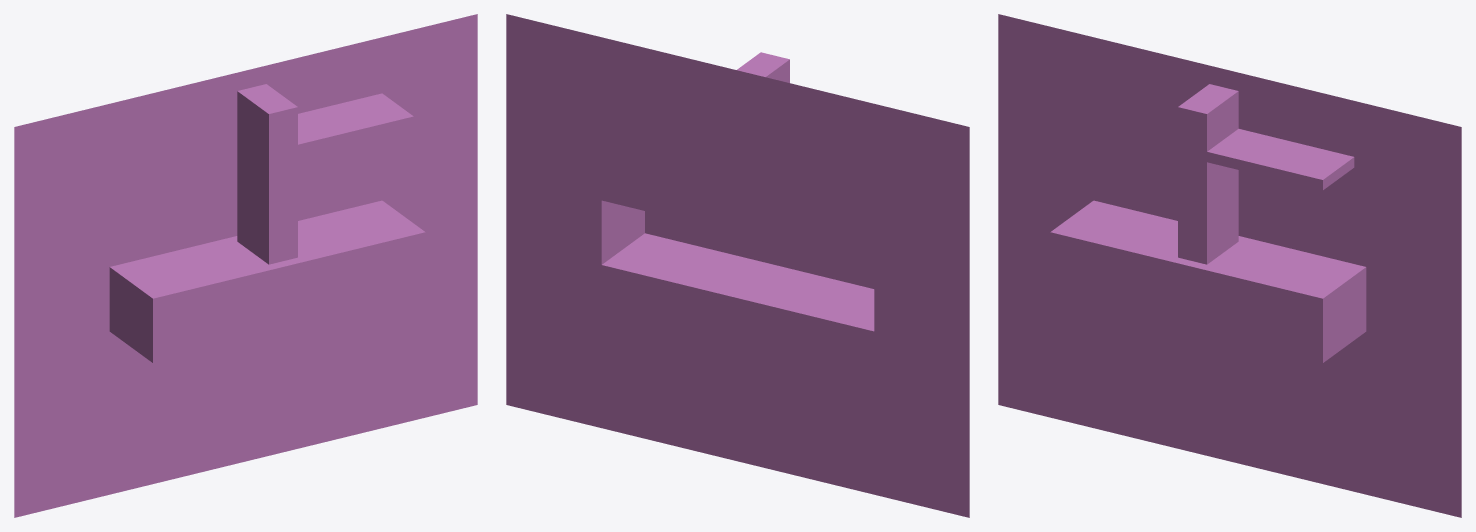
File: wall test_.DAE
The picture shows the model from 3 angles, left to right: view 1: azimuth 30°, elevation 25°; view 2: azimuth 150°, elevation 25°; view 3: azimuth 330°, elevation 25°; orthographic projection.
Visible parts, largest first — view 1: wall_test; view 2: wall_test; view 3: wall_test.
Part boxes in pixels (x1,y1,x2,y2): wall_test: [14, 14, 477, 517]; wall_test: [506, 14, 969, 517]; wall_test: [998, 14, 1461, 517].
Bounding box in the file's own units: 7.44 × 1.21 × 6.
